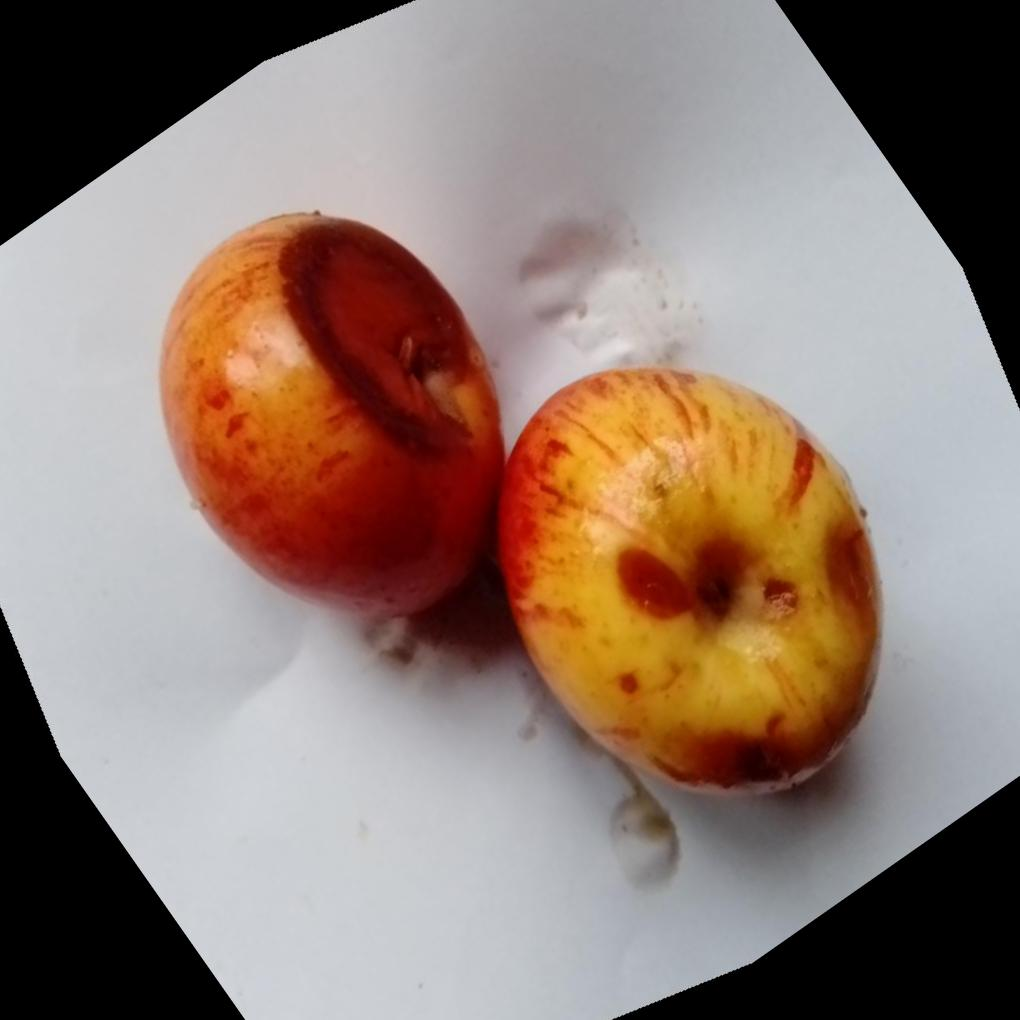FreshOrange: (166, 267, 884, 798)
